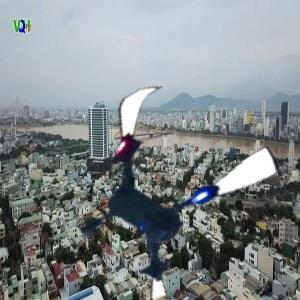drone: (55, 75, 279, 299)
